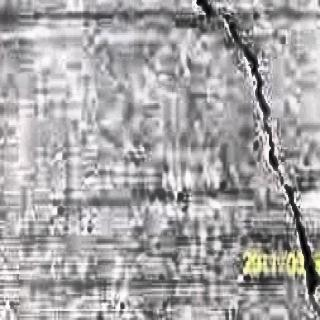crack: (190, 0, 320, 320)
